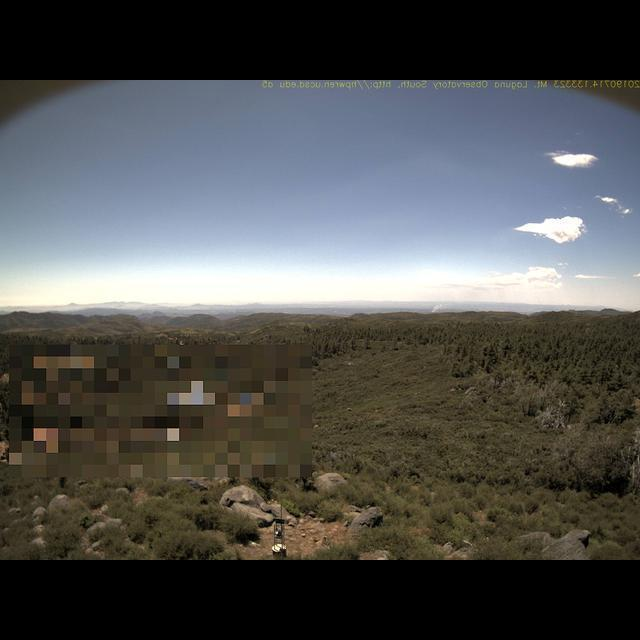Smoke: (429, 294, 453, 314)
